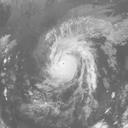cyclone: (39, 35, 95, 88)
